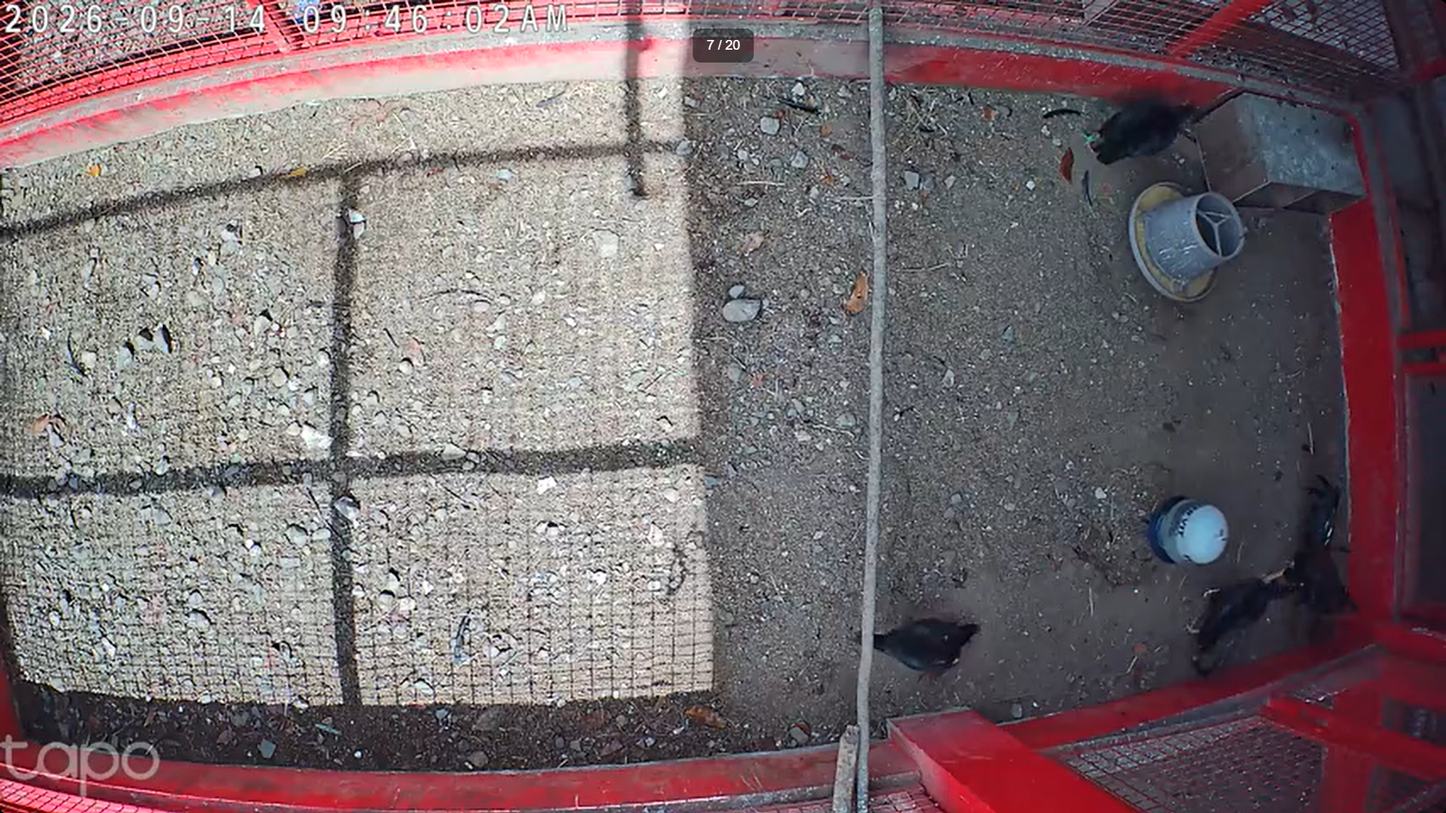Chicken: (1077, 101, 1201, 166)
